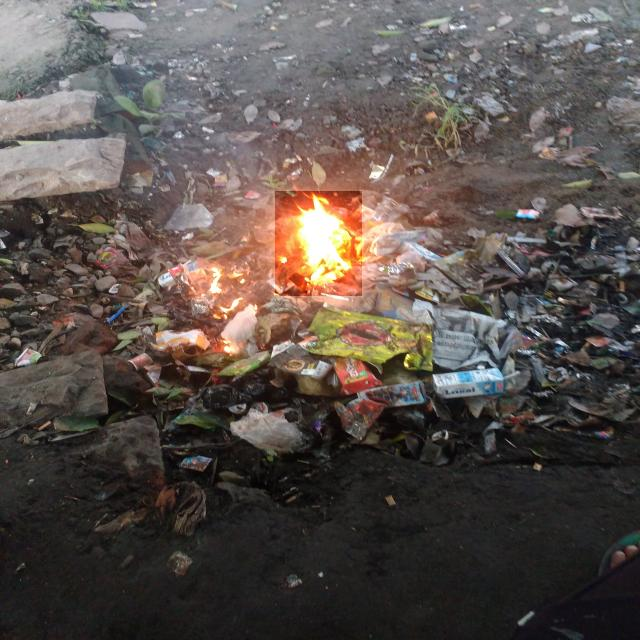Fire: (275, 191, 362, 296)
